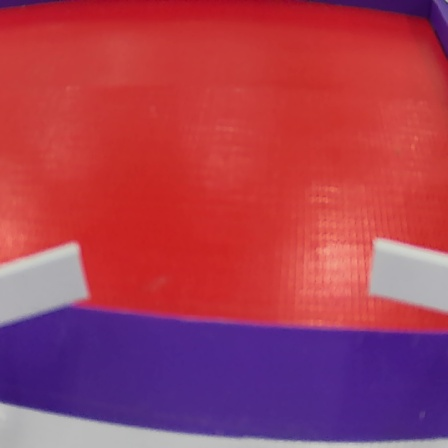red_aim: (1, 2, 445, 448)
